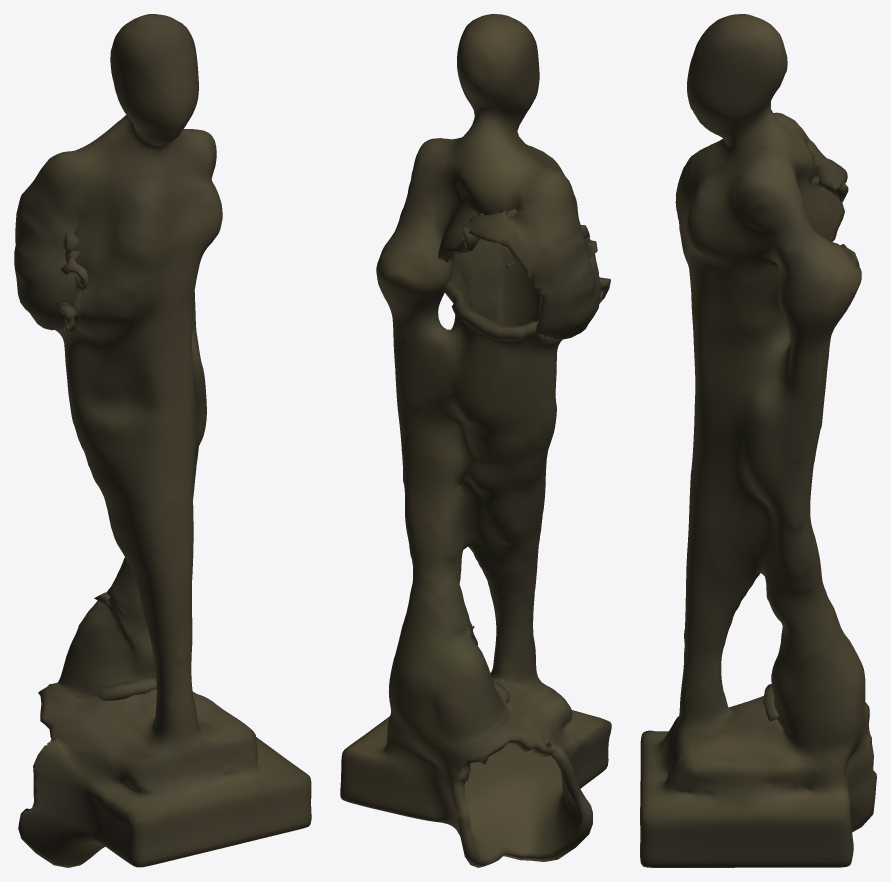
The model's file is GenStatue_1.fbx.
The picture shows the model from 3 angles, left to right: view 1: azimuth 30°, elevation 25°; view 2: azimuth 150°, elevation 25°; view 3: azimuth 270°, elevation 25°; orthographic projection. The views are drawn at different scales.
Parts seen in each view (by area): view 1: AnimationStatua.001; view 2: AnimationStatua.001; view 3: AnimationStatua.001.
Part boxes in pixels (x1,y1,x2,y2): AnimationStatua.001: (14, 14, 311, 867); AnimationStatua.001: (340, 14, 611, 867); AnimationStatua.001: (640, 14, 876, 867).
Size of the model in its own units: 59.35 by 210 by 53.25.
